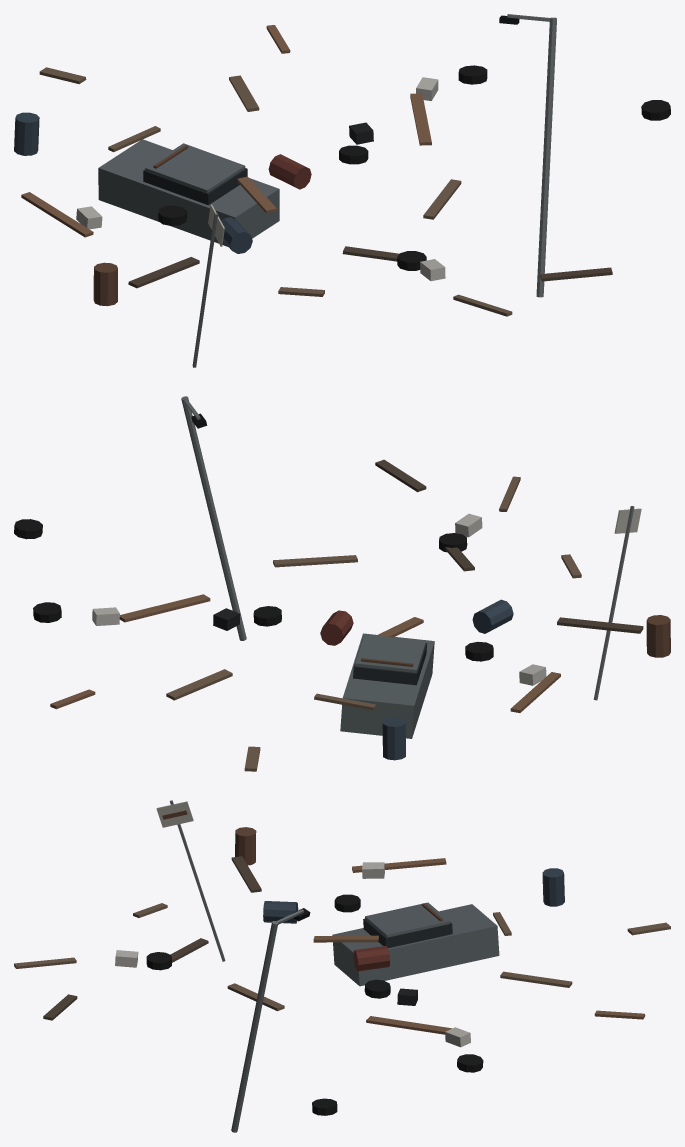
The model's file is prop_flood_debris_a.glb.
The picture shows the model from 3 angles, top to bottom: view 1: azimuth 30°, elevation 25°; view 2: azimuth 150°, elevation 25°; view 3: azimuth 270°, elevation 25°; orthographic projection. The views are drawn at different scales.
Visible parts, largest first — view 1: prop_flood_debris_a; view 2: prop_flood_debris_a; view 3: prop_flood_debris_a.
Boxes of the visible parts, x1,y1,x2,y2 form: prop_flood_debris_a: (14, 14, 670, 367); prop_flood_debris_a: (14, 396, 670, 771); prop_flood_debris_a: (14, 800, 670, 1132).
Size of the model in its own units: 17.5 by 6.87 by 18.15.
